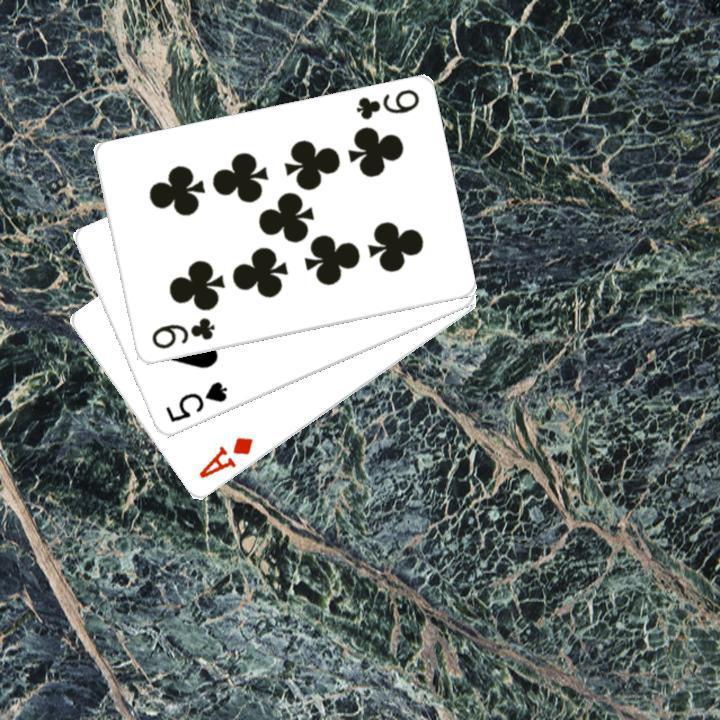5: (161, 377, 229, 425)
9: (146, 313, 217, 352), (351, 85, 421, 122)
A: (194, 433, 255, 481)
